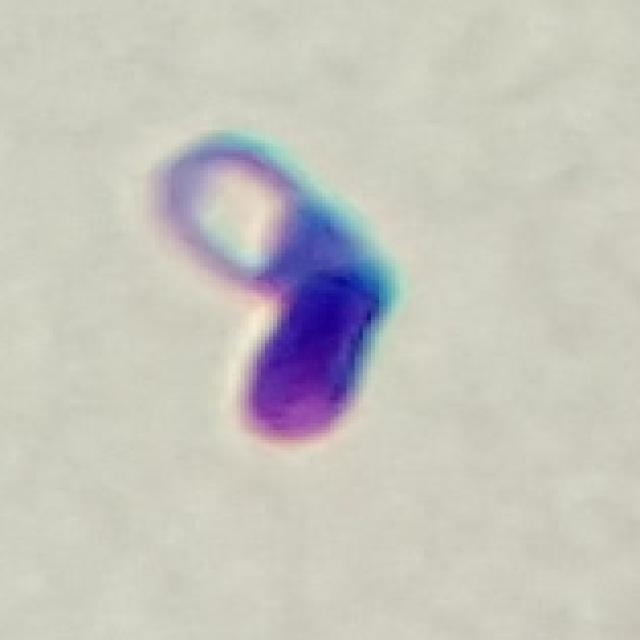abnormal sperm: (142, 98, 416, 449)
